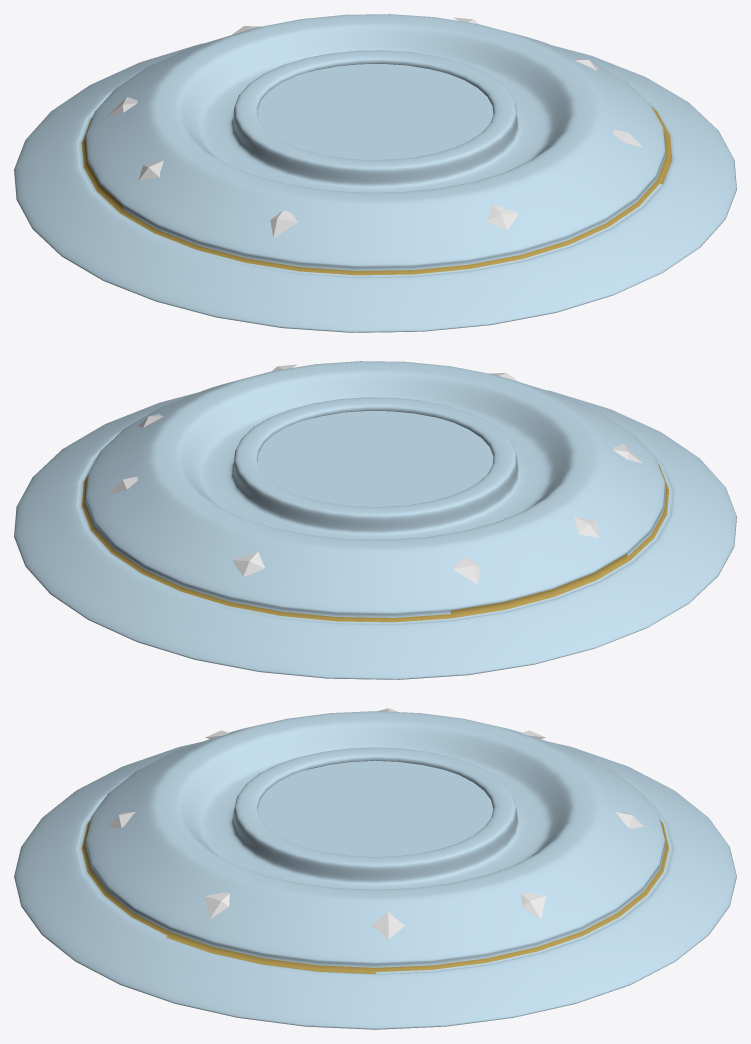
File: State_Circle.fbx
3 views of the same model, one above another, from view 1: azimuth 30°, elevation 25°; view 2: azimuth 150°, elevation 25°; view 3: azimuth 270°, elevation 25° (orthographic).
Parts seen in each view (by area): view 1: Circle, State Circle, Jewel, Jewel.001; view 2: Circle, State Circle, Jewel, Jewel.001, Jewel.002; view 3: Circle, State Circle, Jewel, Jewel.002.
Boxes of the visible parts, left/top/right/bottom form: Circle: left=14, top=14, right=736, bottom=332; State Circle: left=257, top=64, right=493, bottom=159; Jewel: left=107, top=17, right=642, bottom=237; Jewel.001: left=232, top=26, right=518, bottom=230; Circle: left=14, top=361, right=736, bottom=679; State Circle: left=257, top=411, right=493, bottom=506; Jewel: left=108, top=364, right=643, bottom=584; Jewel.001: left=232, top=373, right=518, bottom=577; Jewel.002: left=138, top=414, right=599, bottom=538; Circle: left=14, top=711, right=736, bottom=1029; State Circle: left=257, top=760, right=493, bottom=856; Jewel: left=205, top=730, right=545, bottom=918; Jewel.002: left=370, top=708, right=404, bottom=939.
Bounding box in the file's own units: 179 × 20.12 × 179.
